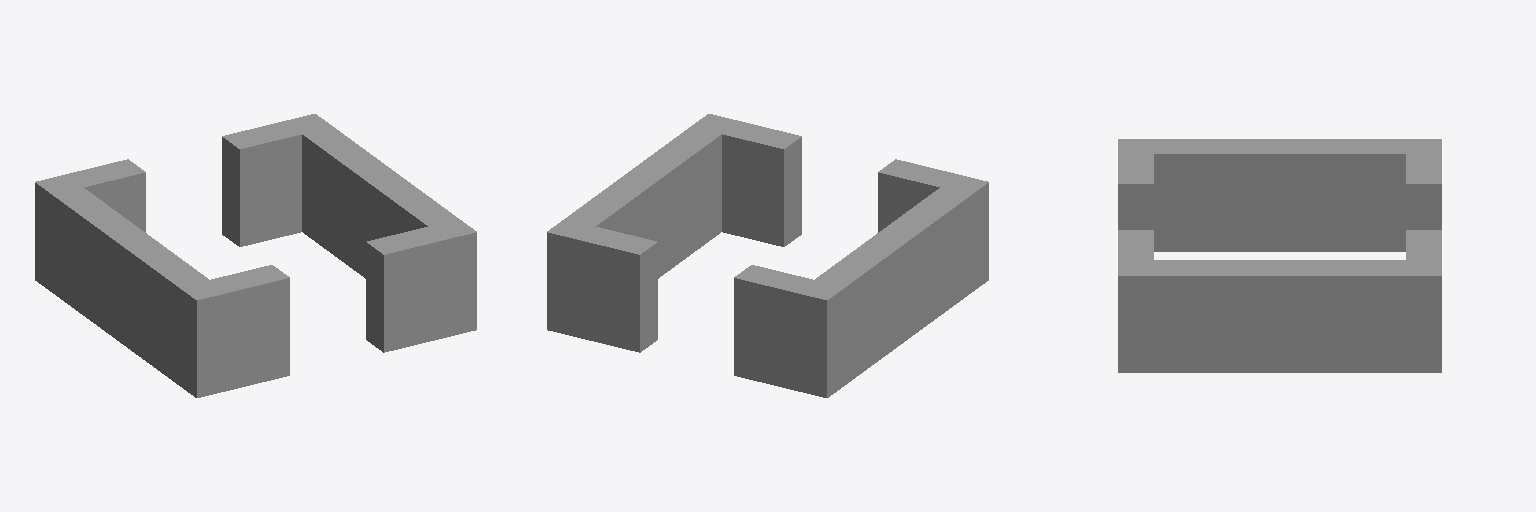
3 renders of one model, left to right at view 1: azimuth 30°, elevation 25°; view 2: azimuth 150°, elevation 25°; view 3: azimuth 270°, elevation 25°, orthographic.
Visible parts, largest first — view 1: object 1; view 2: object 1; view 3: object 1.
Part boxes in pixels (left/top/right/bottom): object 1: left=35, top=114, right=476, bottom=397; object 1: left=547, top=114, right=988, bottom=397; object 1: left=1118, top=139, right=1441, bottom=372.
Size of the model in its own units: 0.9 by 0.3 by 0.9.
1 materials, 1 textured.